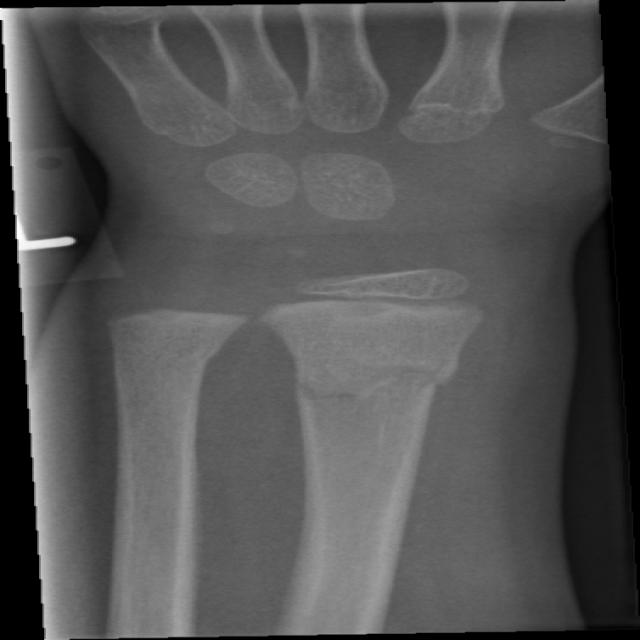radius fracture: (248, 329, 496, 466)
